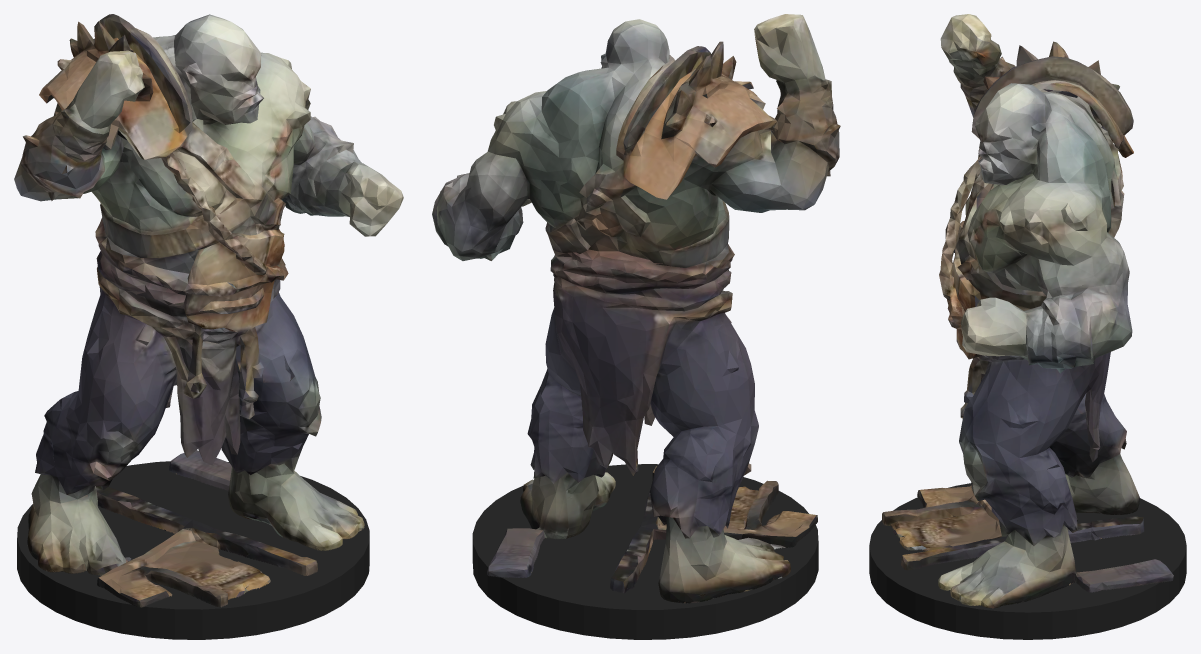
Rendered from brute@melee2.glb.
3 renders of one model, left to right at view 1: azimuth 30°, elevation 25°; view 2: azimuth 150°, elevation 25°; view 3: azimuth 270°, elevation 25°, orthographic. The views are drawn at different scales.
Visible parts, largest first — view 1: figure, base; view 2: figure, base; view 3: figure, base.
Part boxes in pixels (x1,y1,x2,y2): figure: (14, 14, 403, 607); base: (17, 461, 369, 639); figure: (432, 14, 840, 603); base: (472, 464, 818, 639); figure: (882, 14, 1173, 608); base: (869, 483, 1186, 639).
Size of the model in its own units: 1.52 by 2.22 by 1.26.
2 materials, 1 textured.
